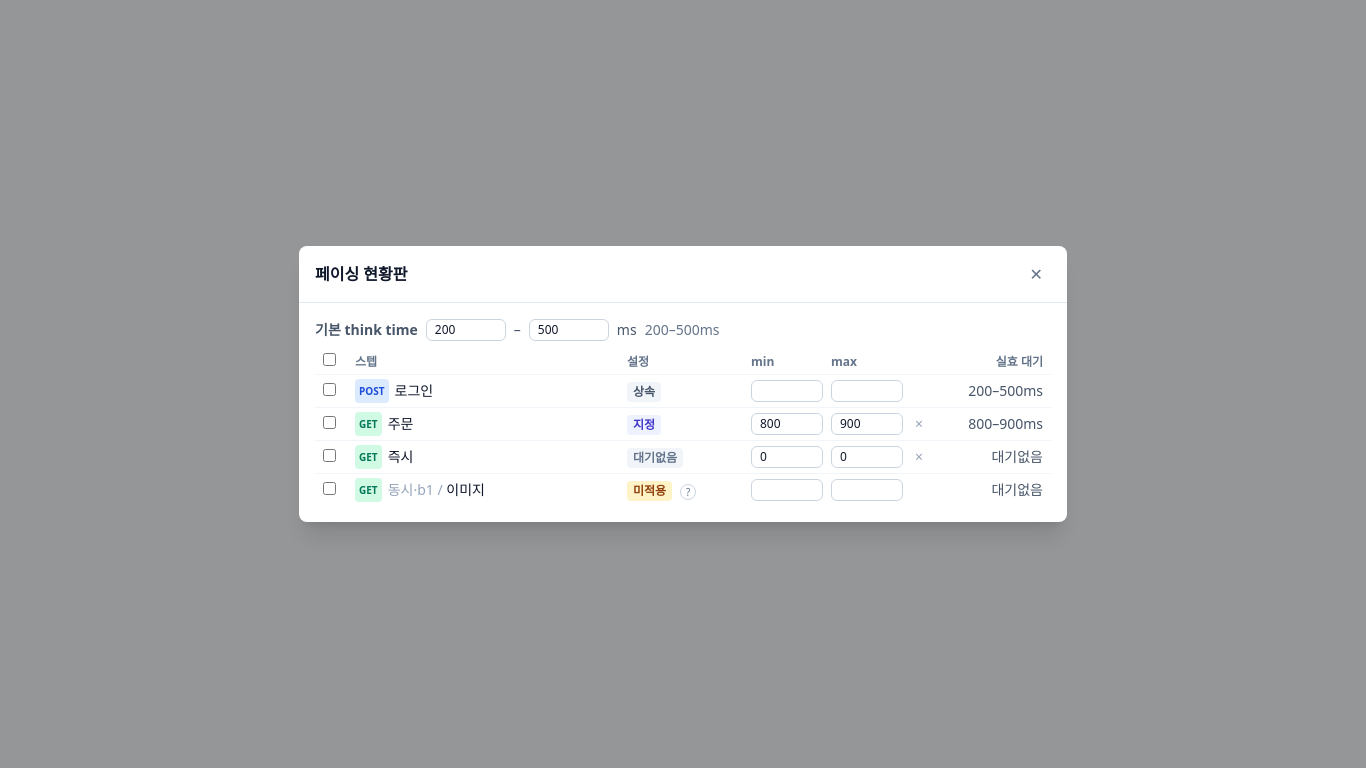
Test: ThinkTimeBoard — 행별 편집 › 잘못된 입력(min>max)이면 draft가 마지막 커밋값으로 되돌아간다 — 모델도 불변
Replace the text in the number field named "이 스텝 think 최솟값 (ms)" in the row of "주문" with "950" at (787, 424), box [751, 413, 823, 435]
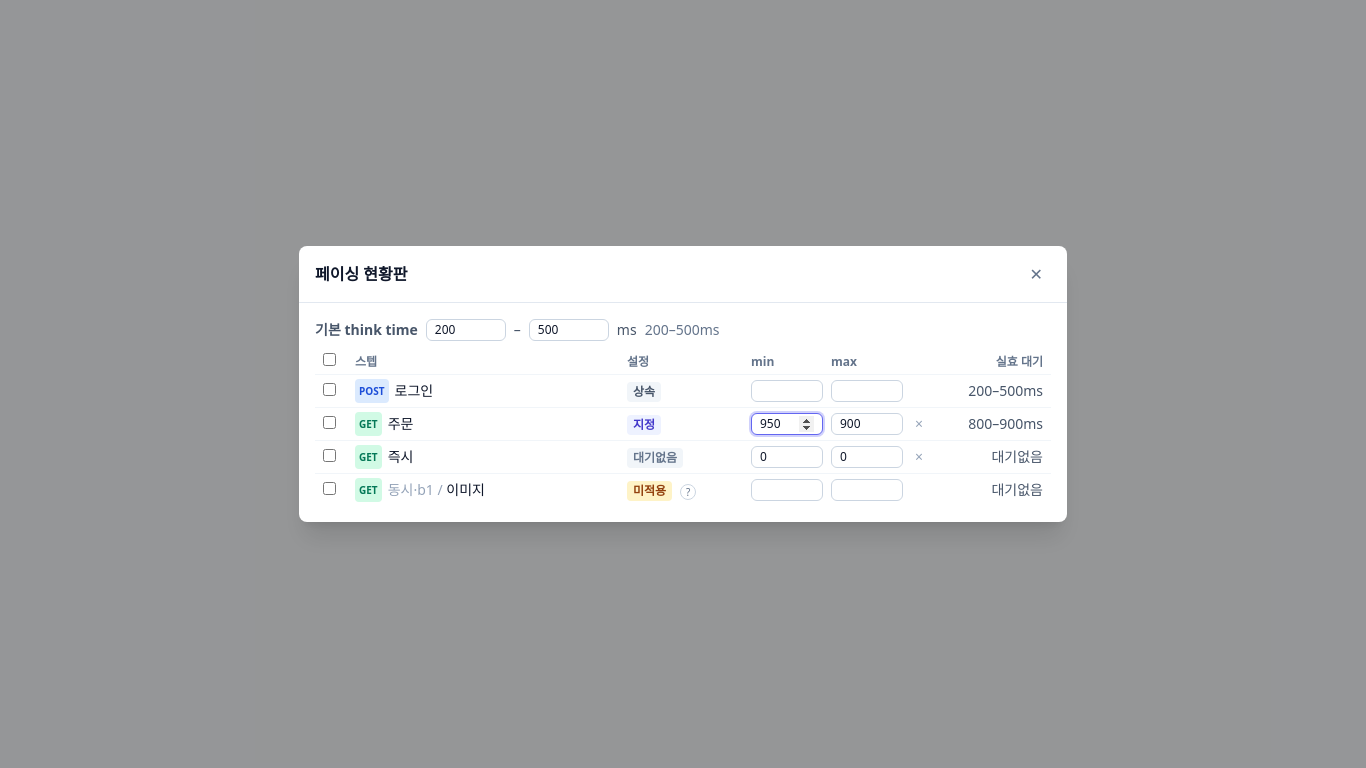
Leave the number field named "이 스텝 think 최솟값 (ms)" in the row of "주문", box [751, 413, 823, 435]
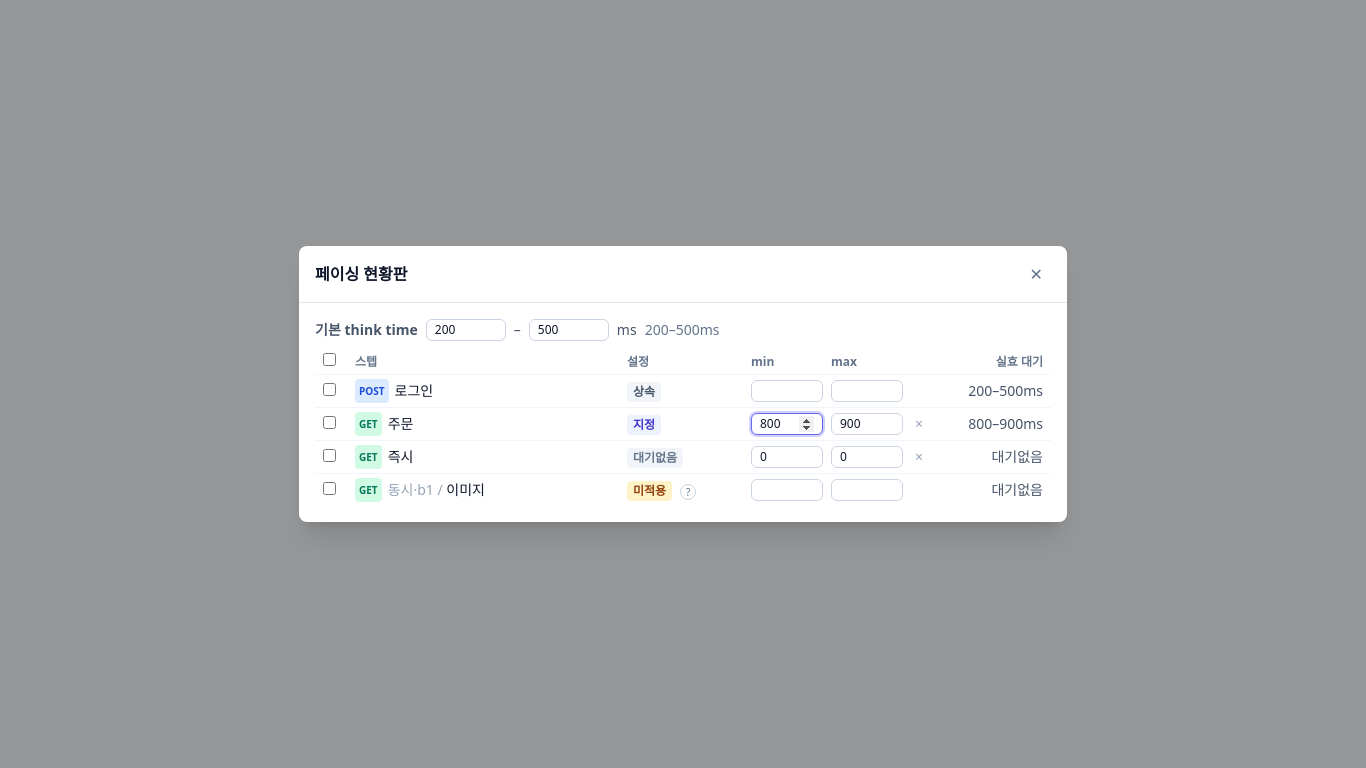
Expected: the number field named "이 스텝 think 최솟값 (ms)" in the row of "주문" holds "800", [751, 413, 823, 435]
